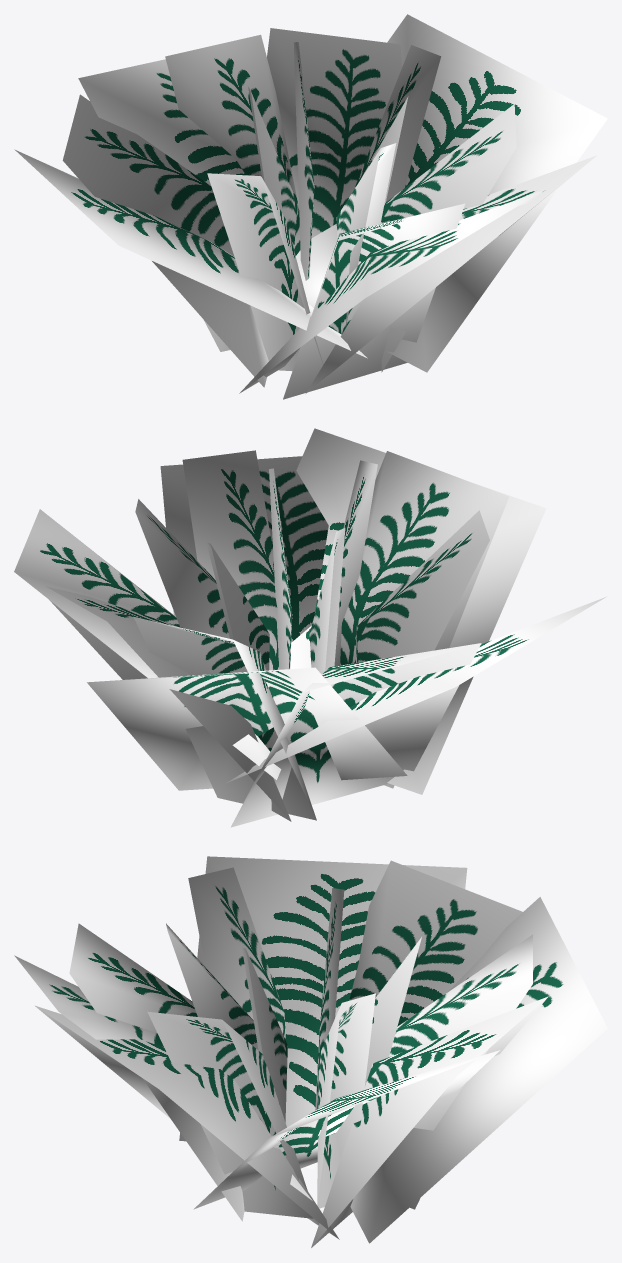
The model's file is jungle plant2 edit.fbx.
3 views of the same model, one above another, from view 1: azimuth 30°, elevation 25°; view 2: azimuth 150°, elevation 25°; view 3: azimuth 270°, elevation 25° (orthographic). The views are drawn at different scales.
Parts seen in each view (by area): view 1: leaf test2_1; view 2: leaf test2_1; view 3: leaf test2_1.
Part boxes in pixels (<box>): leaf test2_1: <box>14,14,607,399</box>; leaf test2_1: <box>14,428,606,827</box>; leaf test2_1: <box>14,856,607,1247</box>.
Size of the model in its own units: 145 by 75.14 by 139.
